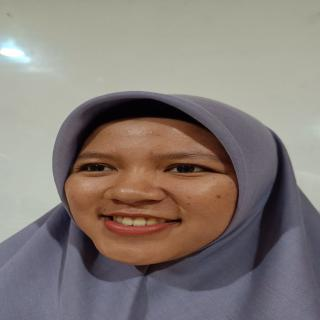Senang: (54, 106, 262, 276)
